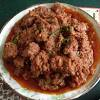rendang: (4, 2, 100, 95)
